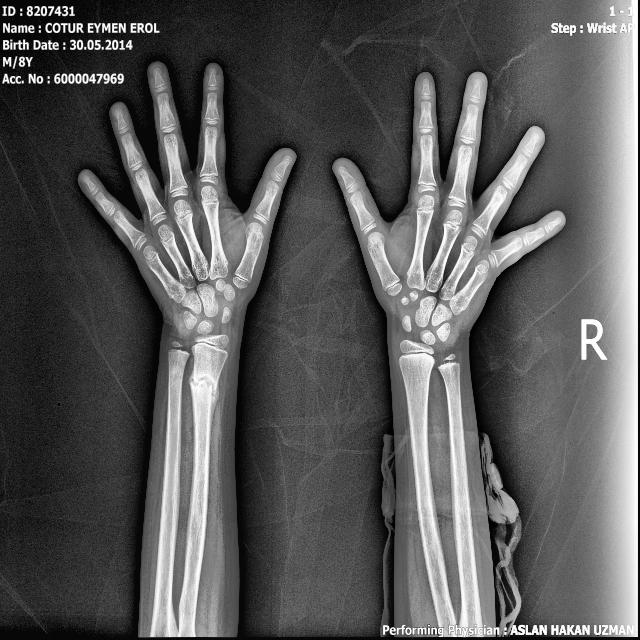Fracture: (188, 367, 222, 403)
